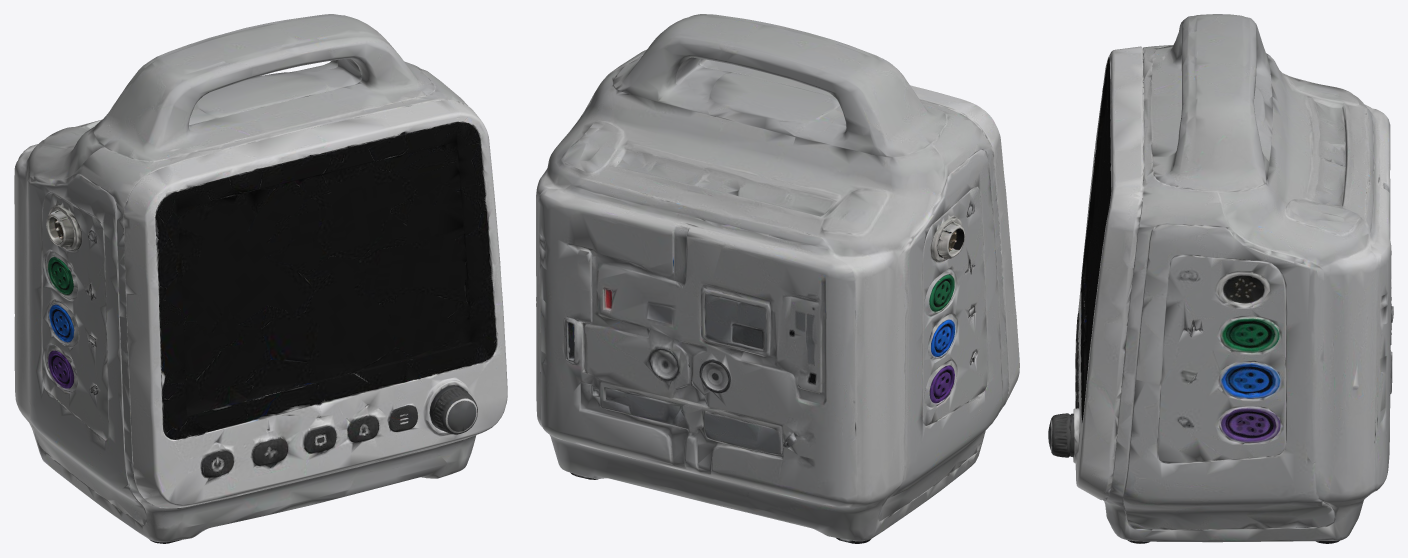
The model's file is monitor.glb.
3 views of the same model, side by side, from view 1: azimuth 30°, elevation 25°; view 2: azimuth 150°, elevation 25°; view 3: azimuth 270°, elevation 25° (orthographic). The views are drawn at different scales.
Size of the model in its own units: 1.73 by 1.9 by 1.41.
1 material, 1 textured.
